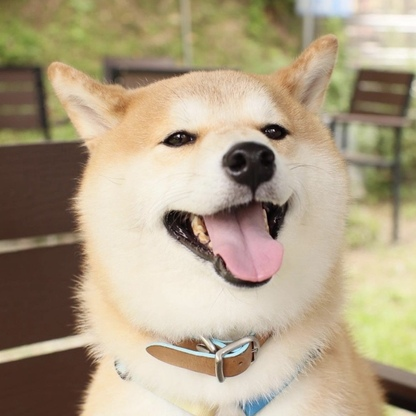shiba: (40, 30, 395, 416)
